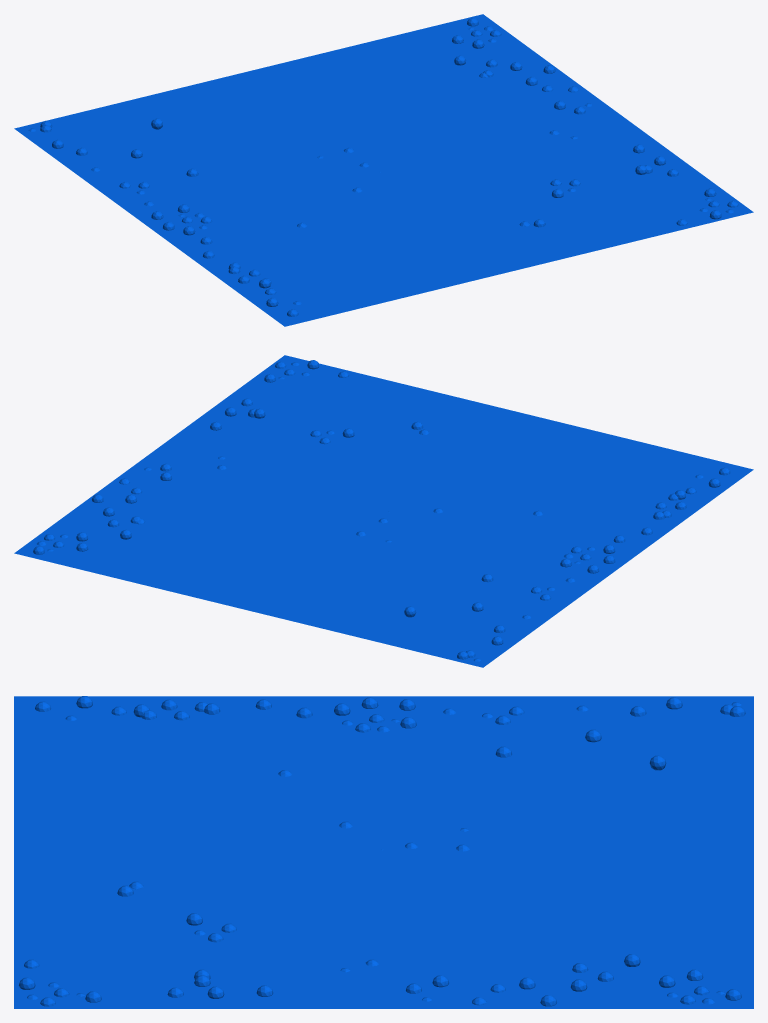
The model's file is Floor.fbx.
The picture shows the model from 3 angles, top to bottom: view 1: azimuth 30°, elevation 25°; view 2: azimuth 150°, elevation 25°; view 3: azimuth 270°, elevation 25°; orthographic projection. The views are drawn at different scales.
Visible parts, largest first — view 1: Icosphere; view 2: Icosphere; view 3: Icosphere.
Boxes of the visible parts, bbox=[...] form: Icosphere: bbox=[14, 14, 753, 326]; Icosphere: bbox=[14, 355, 753, 667]; Icosphere: bbox=[14, 696, 753, 1008].
Bounding box in the file's own units: 100 × 1.82 × 100.
